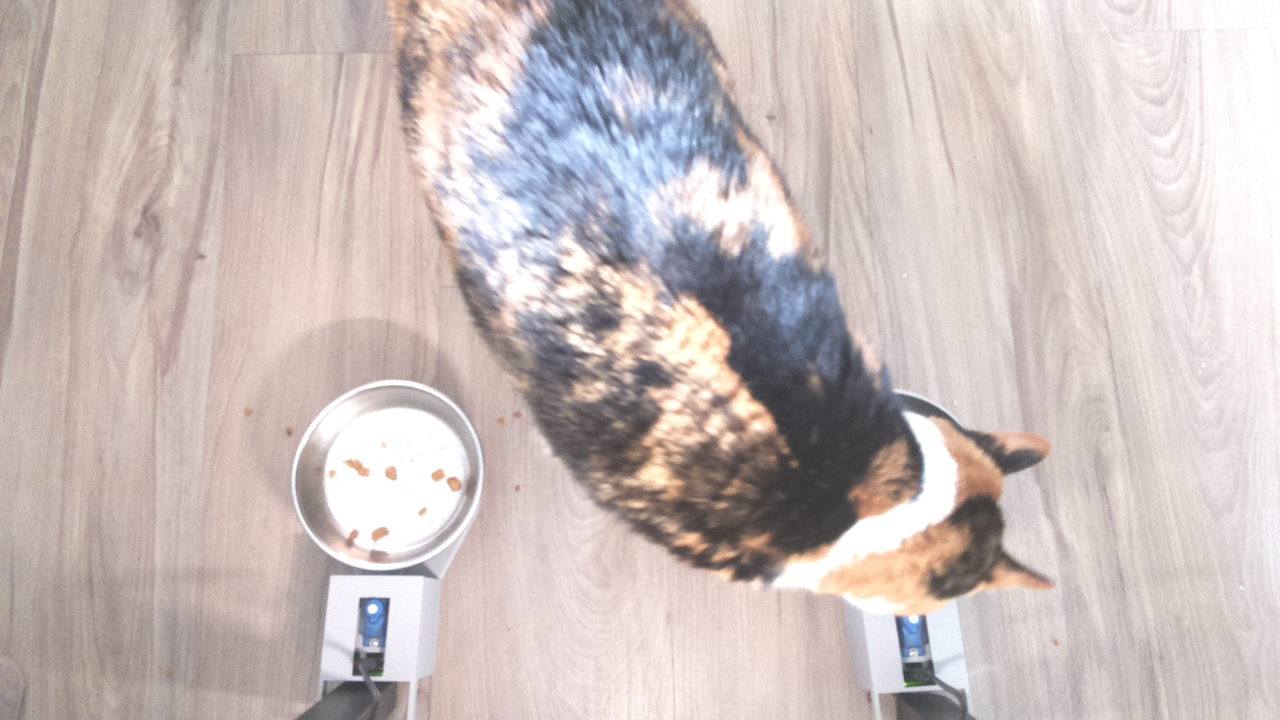bella_eating: (757, 342, 1051, 615)
open_bowl: (286, 375, 490, 572)
